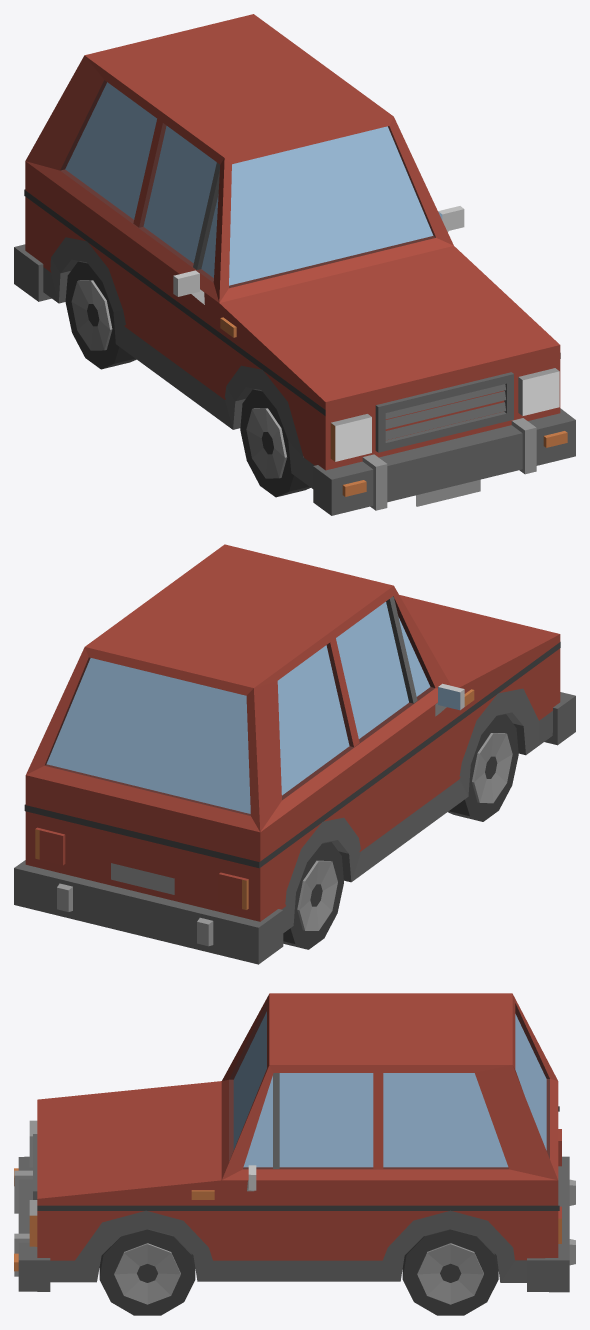
File: transport_old_004.glb
3 views of the same model, one above another, from view 1: azimuth 30°, elevation 25°; view 2: azimuth 150°, elevation 25°; view 3: azimuth 270°, elevation 25° (orthographic). The views are drawn at different scales.
Visible parts, largest first — view 1: transport_old_004; view 2: transport_old_004; view 3: transport_old_004.
Boxes of the visible parts, bbox=[...] form: transport_old_004: bbox=[14, 14, 575, 515]; transport_old_004: bbox=[14, 544, 575, 964]; transport_old_004: bbox=[14, 993, 575, 1315].
Bounding box in the file's own units: 1.48 × 1.36 × 2.89.
1 material, 1 textured.
